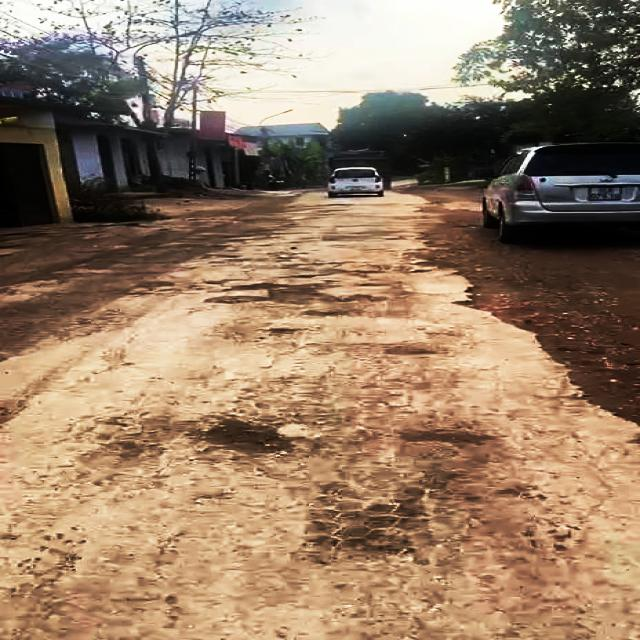pothole: (202, 280, 380, 306), (196, 420, 295, 455)
